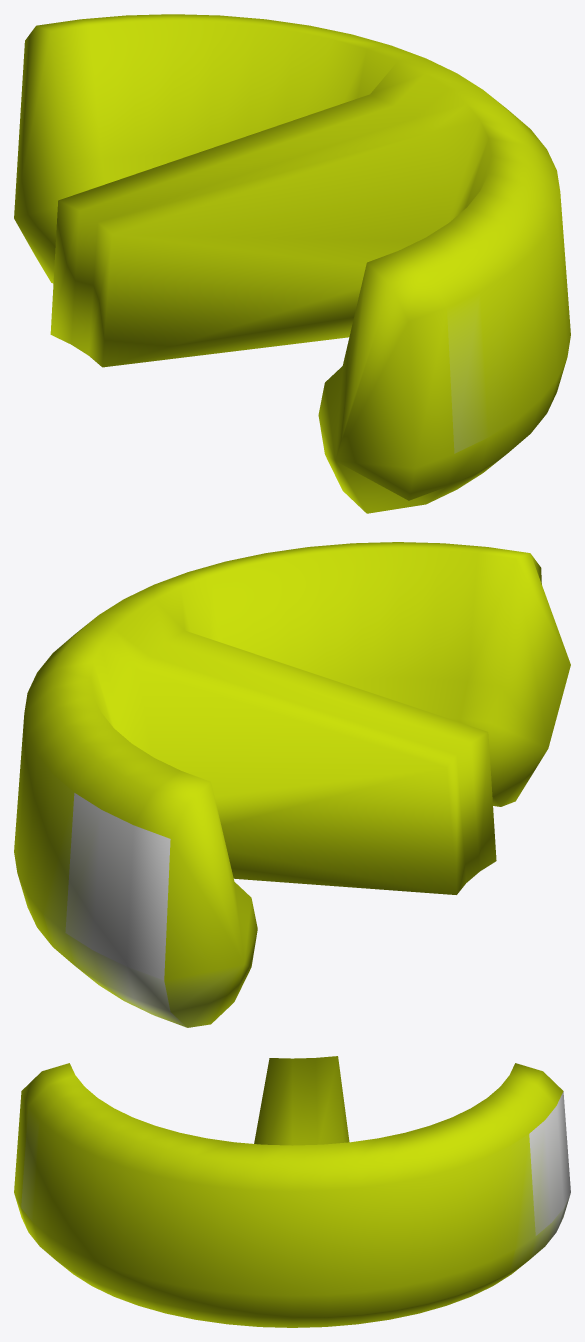
Rendered from Player.fbx.
3 views of the same model, one above another, from view 1: azimuth 30°, elevation 25°; view 2: azimuth 150°, elevation 25°; view 3: azimuth 270°, elevation 25° (orthographic). The views are drawn at different scales.
Visible parts, largest first — view 1: Torus; view 2: Torus; view 3: Torus.
Boxes of the visible parts, bbox=[...] form: Torus: bbox=[14, 14, 570, 513]; Torus: bbox=[14, 542, 570, 1027]; Torus: bbox=[14, 1056, 570, 1327].
Size of the model in its own units: 1.58 by 0.8711 by 2.48.
